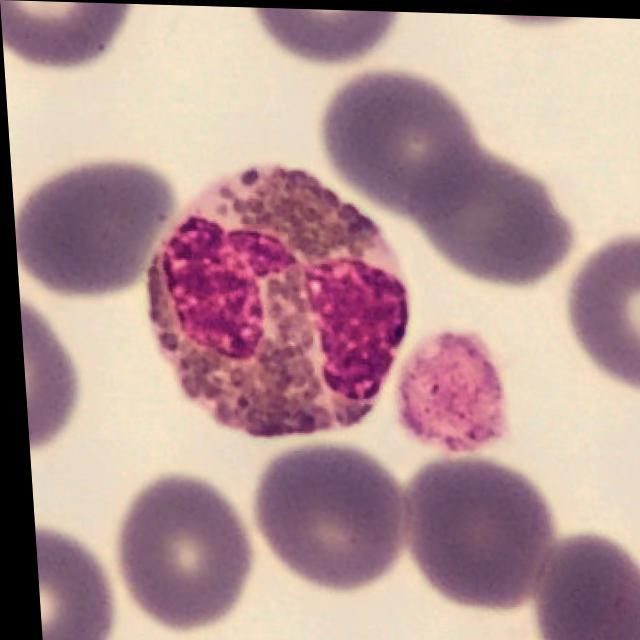Eosinofilo: (141, 163, 408, 440)
